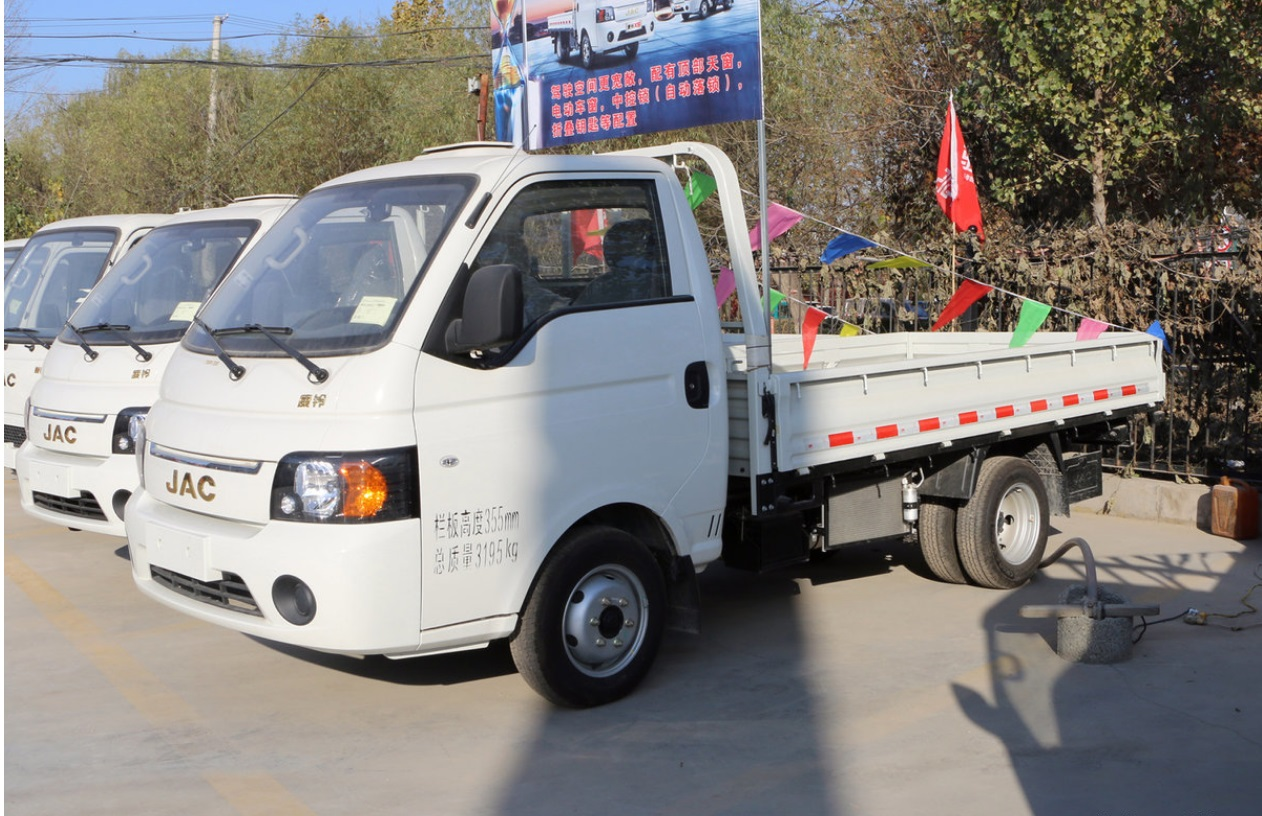truck: (117, 142, 1167, 714)
